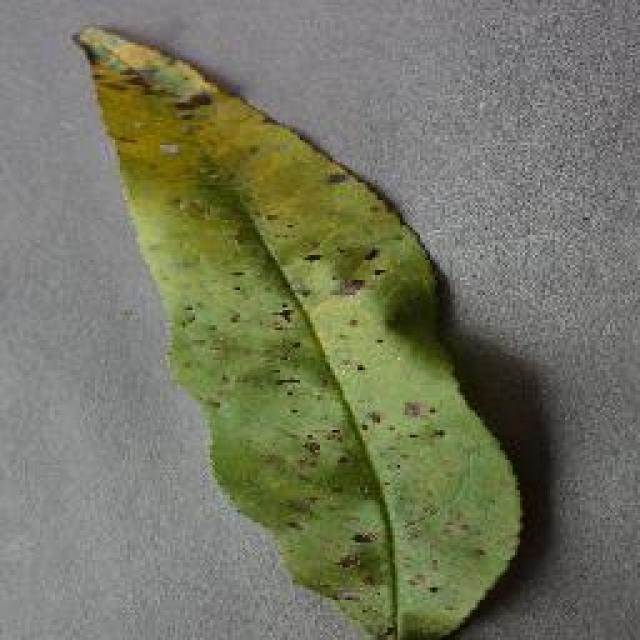Peach_Bacterial_Spot: (158, 105, 457, 567)
